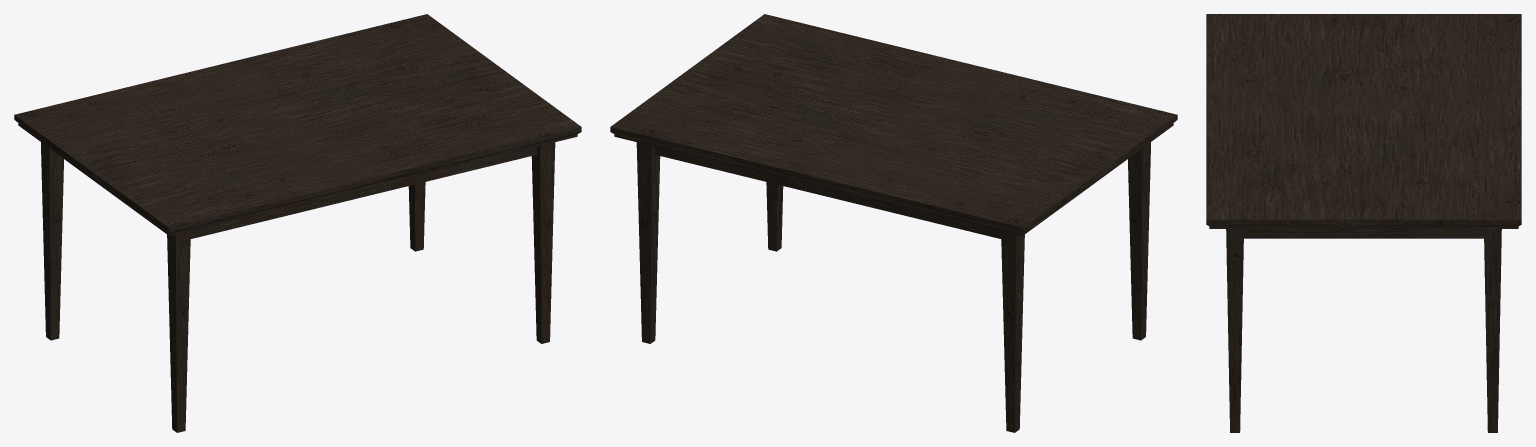
The model's file is dinner_table_1_2.glb.
3 renders of one model, left to right at view 1: azimuth 30°, elevation 25°; view 2: azimuth 150°, elevation 25°; view 3: azimuth 270°, elevation 25°, orthographic. The views are drawn at different scales.
Parts seen in each view (by area): view 1: dinner_table_1_2; view 2: dinner_table_1_2; view 3: dinner_table_1_2.
Part boxes in pixels (<box>): dinner_table_1_2: <box>14,14,581,432</box>; dinner_table_1_2: <box>610,14,1177,432</box>; dinner_table_1_2: <box>1206,14,1521,432</box>.
Bounding box in the file's own units: 1.7 × 0.86 × 1.1.
1 material, 1 textured.
